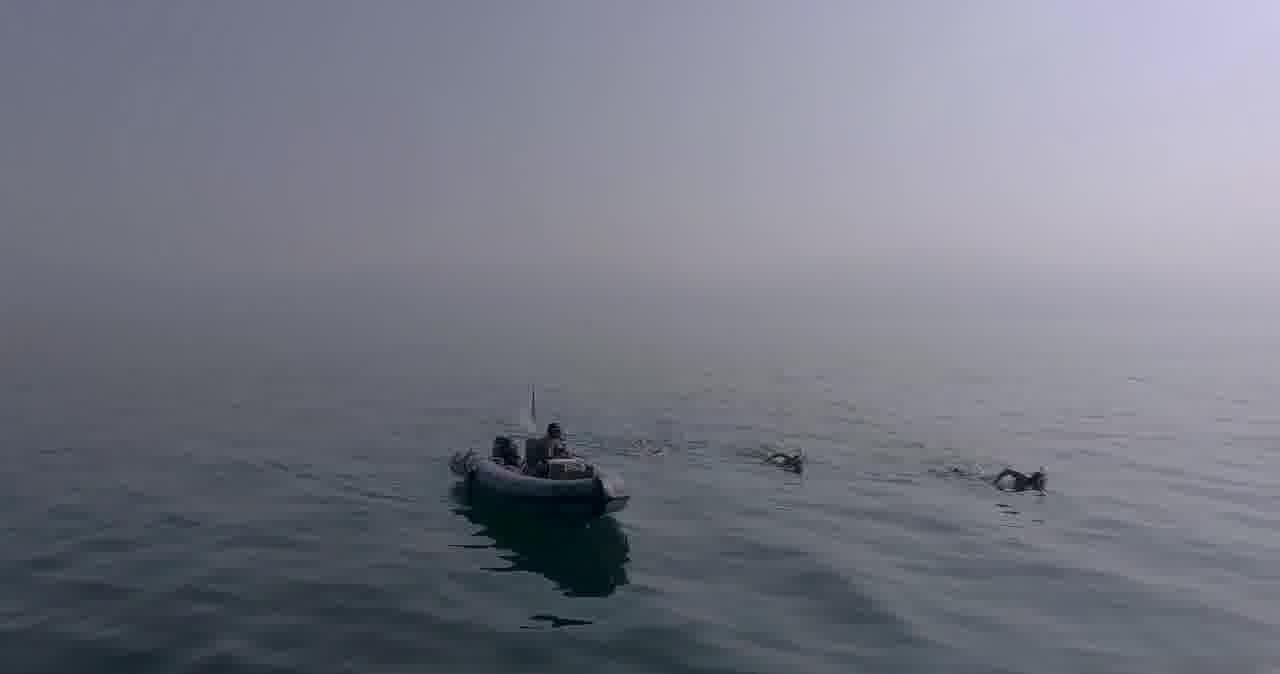swimmer: (979, 443, 1062, 514), (745, 435, 825, 501)
